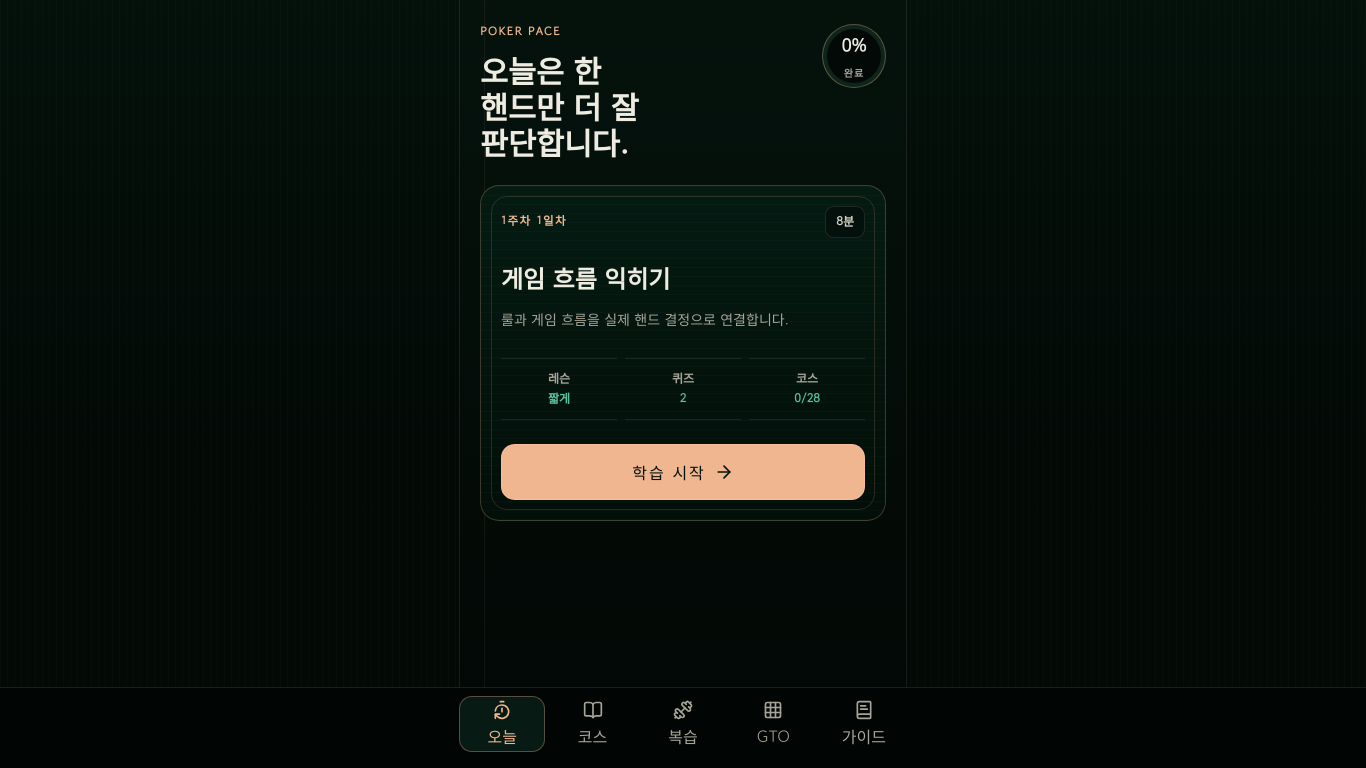
Poker Pace app › shows an empty missed-question trainer state
This screenshot has width=1366, height=768.
Click the button "복습". click: (683, 724)
box: 640,696 -> 726,752
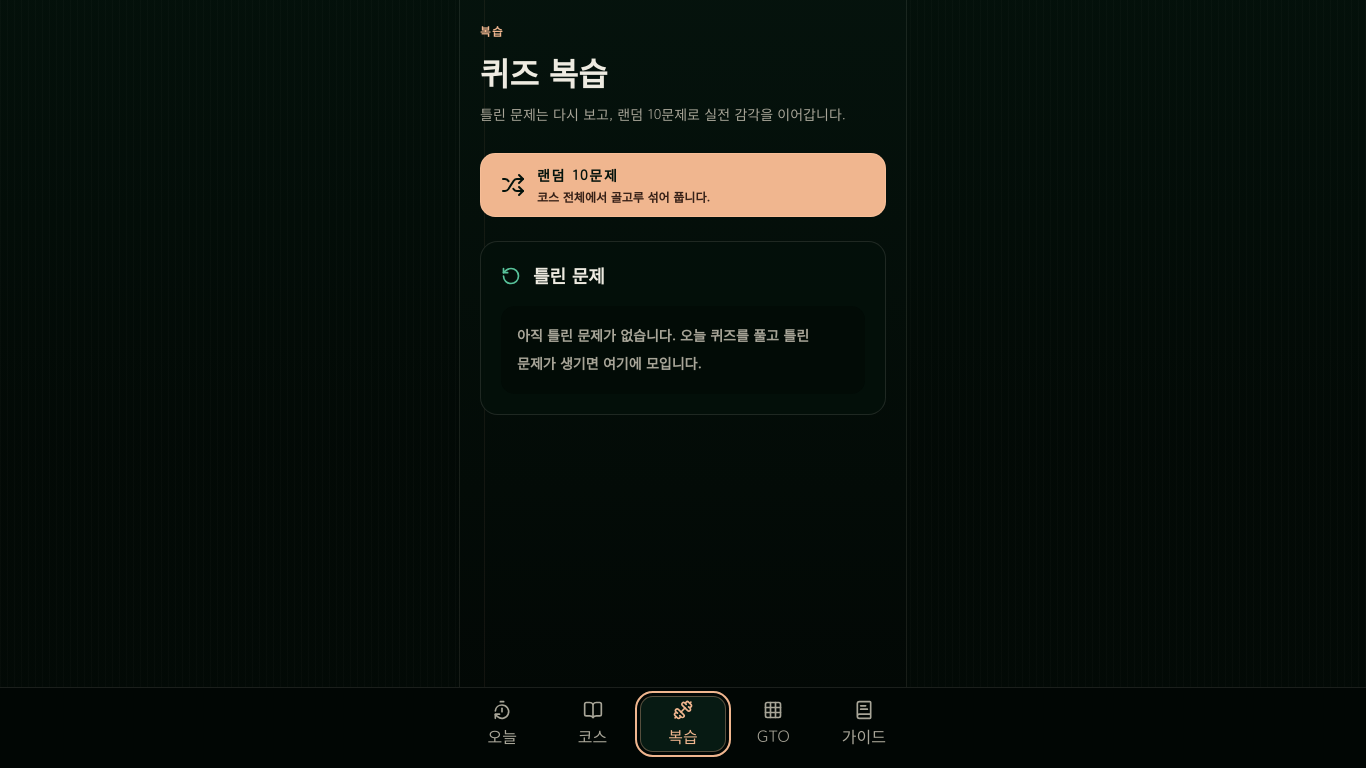
Now the text "아직 틀린 문제가 없습니다. 오늘 퀴즈를 풀고 틀린 문제가 생기면 여기에 모입니다." is shown, box 501,306 -> 865,394
Now the button "랜덤 10문제 코스 전체에서 골고루 섞어 풉니다." is shown, box 480,153 -> 886,217
